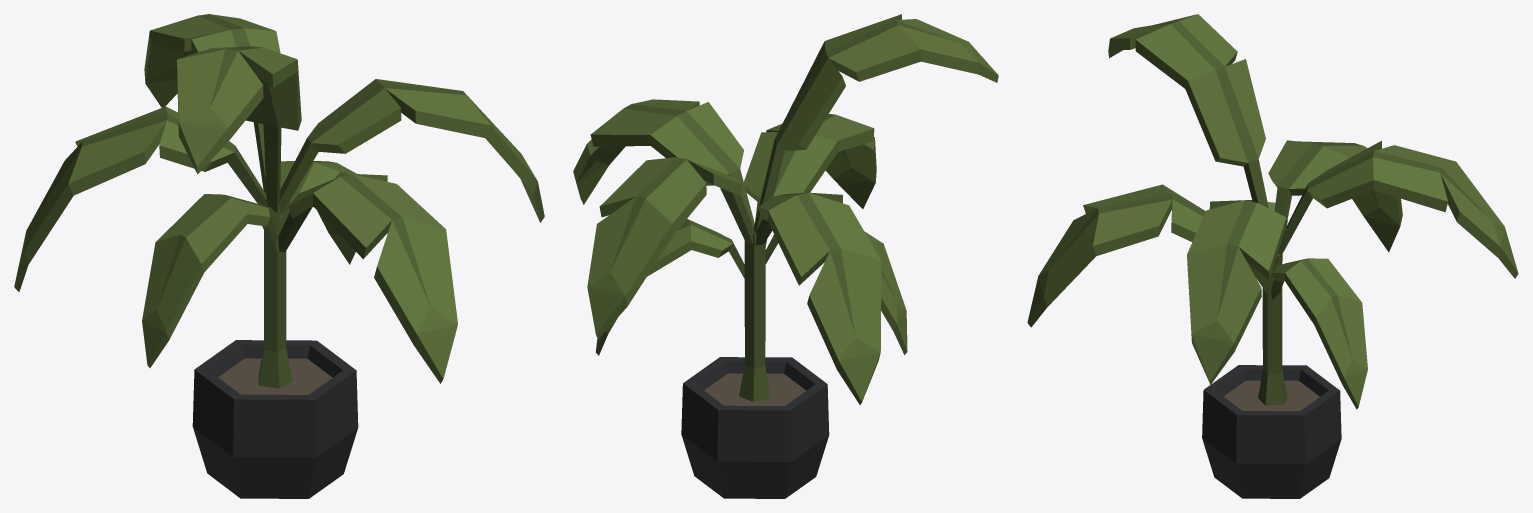
Rendered from plant.glb.
3 renders of one model, left to right at view 1: azimuth 30°, elevation 25°; view 2: azimuth 150°, elevation 25°; view 3: azimuth 270°, elevation 25°, orthographic. The views are drawn at different scales.
Parts seen in each view (by area): view 1: SM_Prop_Planter_Plant_01; view 2: SM_Prop_Planter_Plant_01; view 3: SM_Prop_Planter_Plant_01.
Part boxes in pixels (<box>): SM_Prop_Planter_Plant_01: <box>14,14,544,498</box>; SM_Prop_Planter_Plant_01: <box>573,14,998,498</box>; SM_Prop_Planter_Plant_01: <box>1027,14,1518,498</box>.
Size of the model in its own units: 1.43 by 1.57 by 1.68.
Materials: 1 (1 with a texture image).
